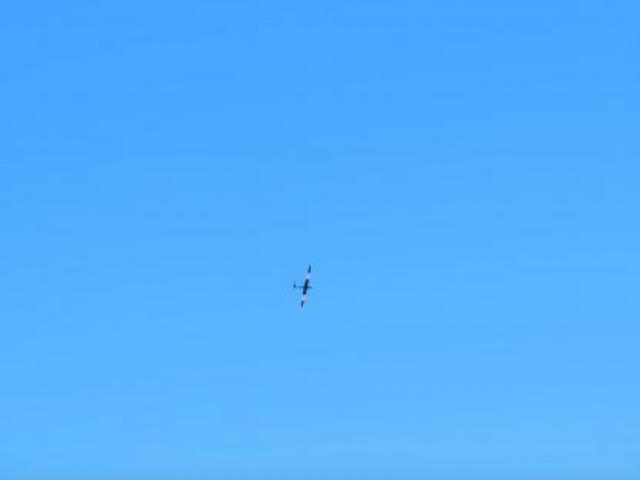uav: (292, 260, 313, 309)
